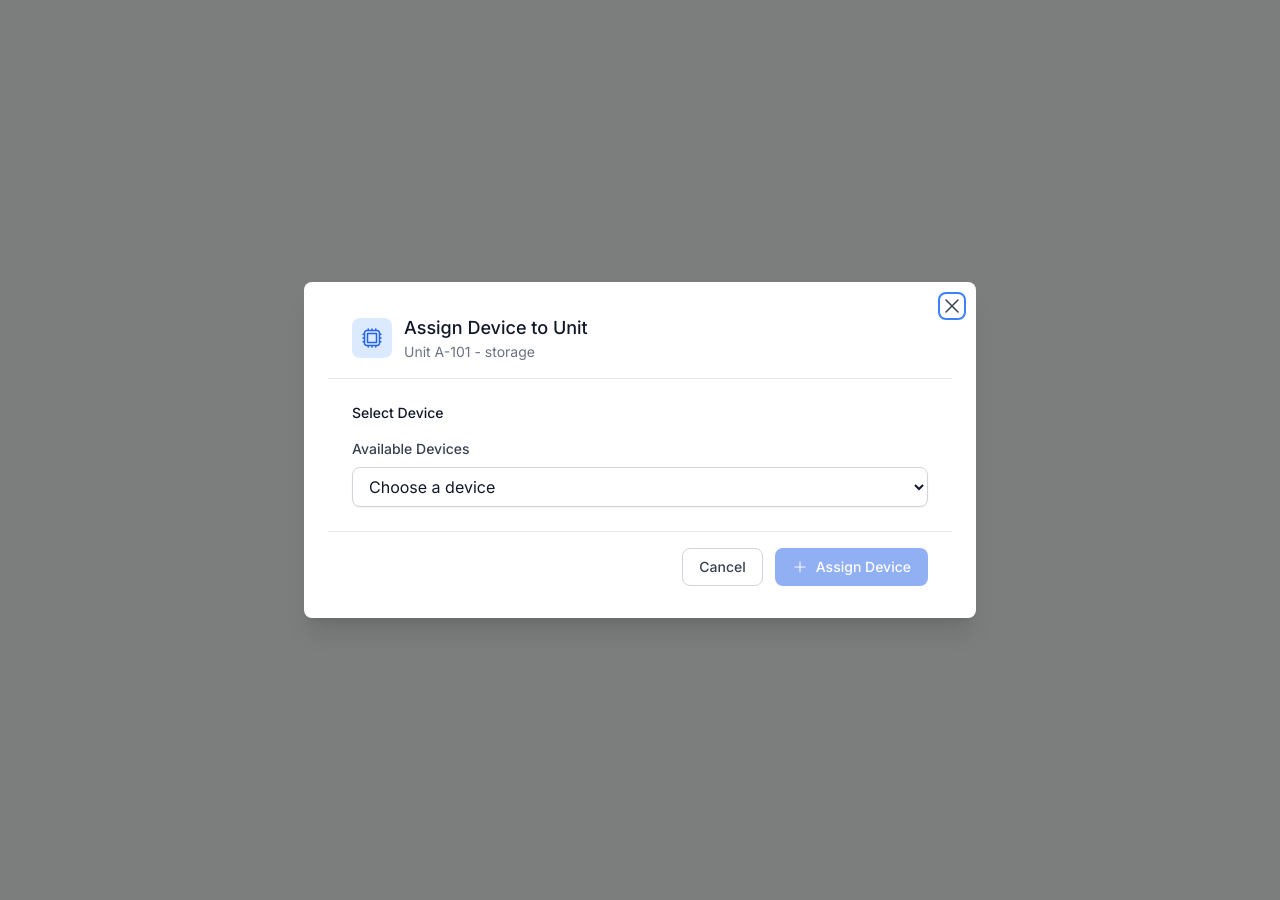
Test: DeviceAssignmentModal › Device Selection › should display device details when device is selected
The width and height of the screenshot is (1280, 900).
Note: Select a device
Select "BLU-002 (v1.1.0) - Test Facility - online" in the dropdown: (640, 487) [352, 467, 928, 507]
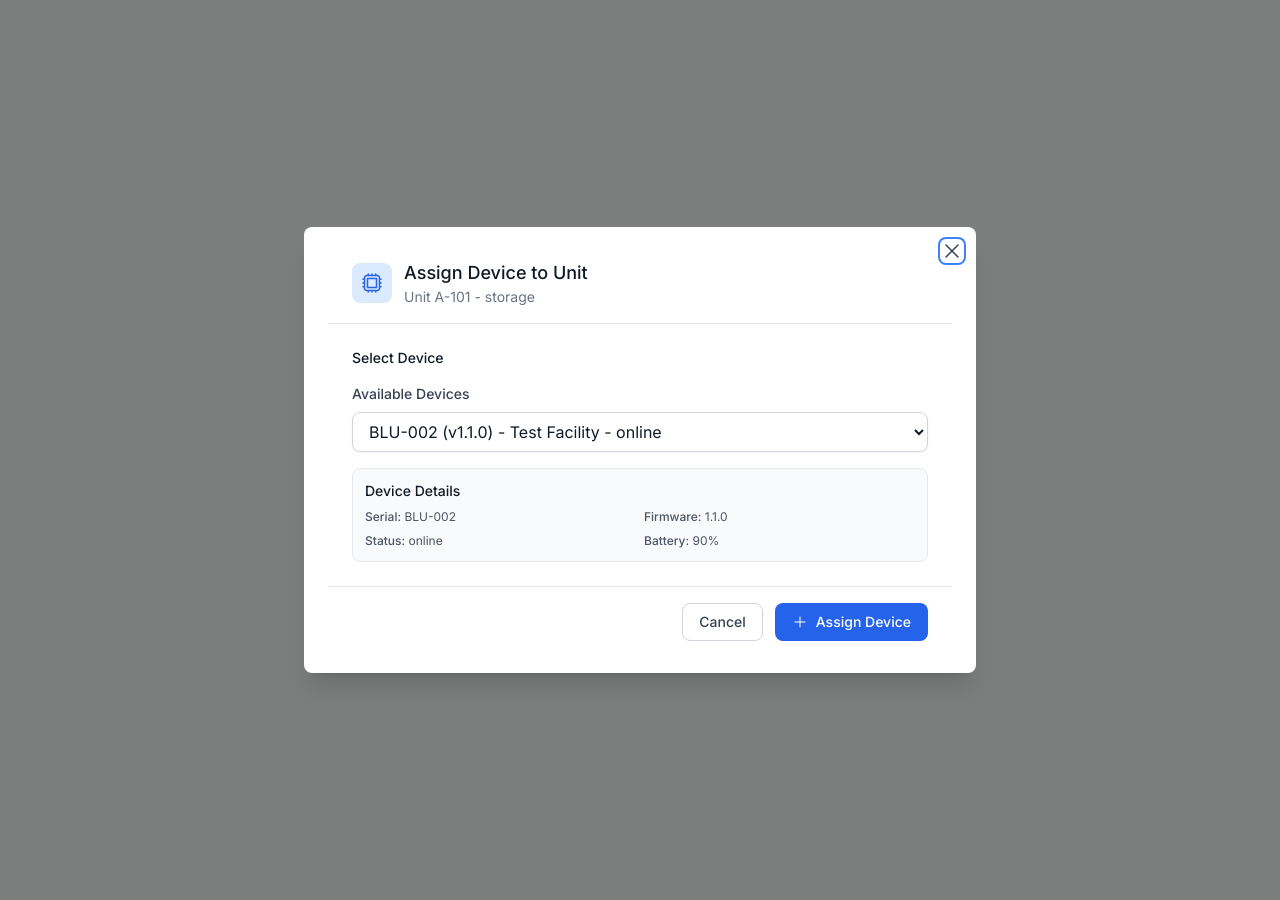
Check: the text "Device Details" is shown, box [365, 482, 460, 499]
Check: the text "BLU-002" is shown, box [404, 509, 456, 524]
